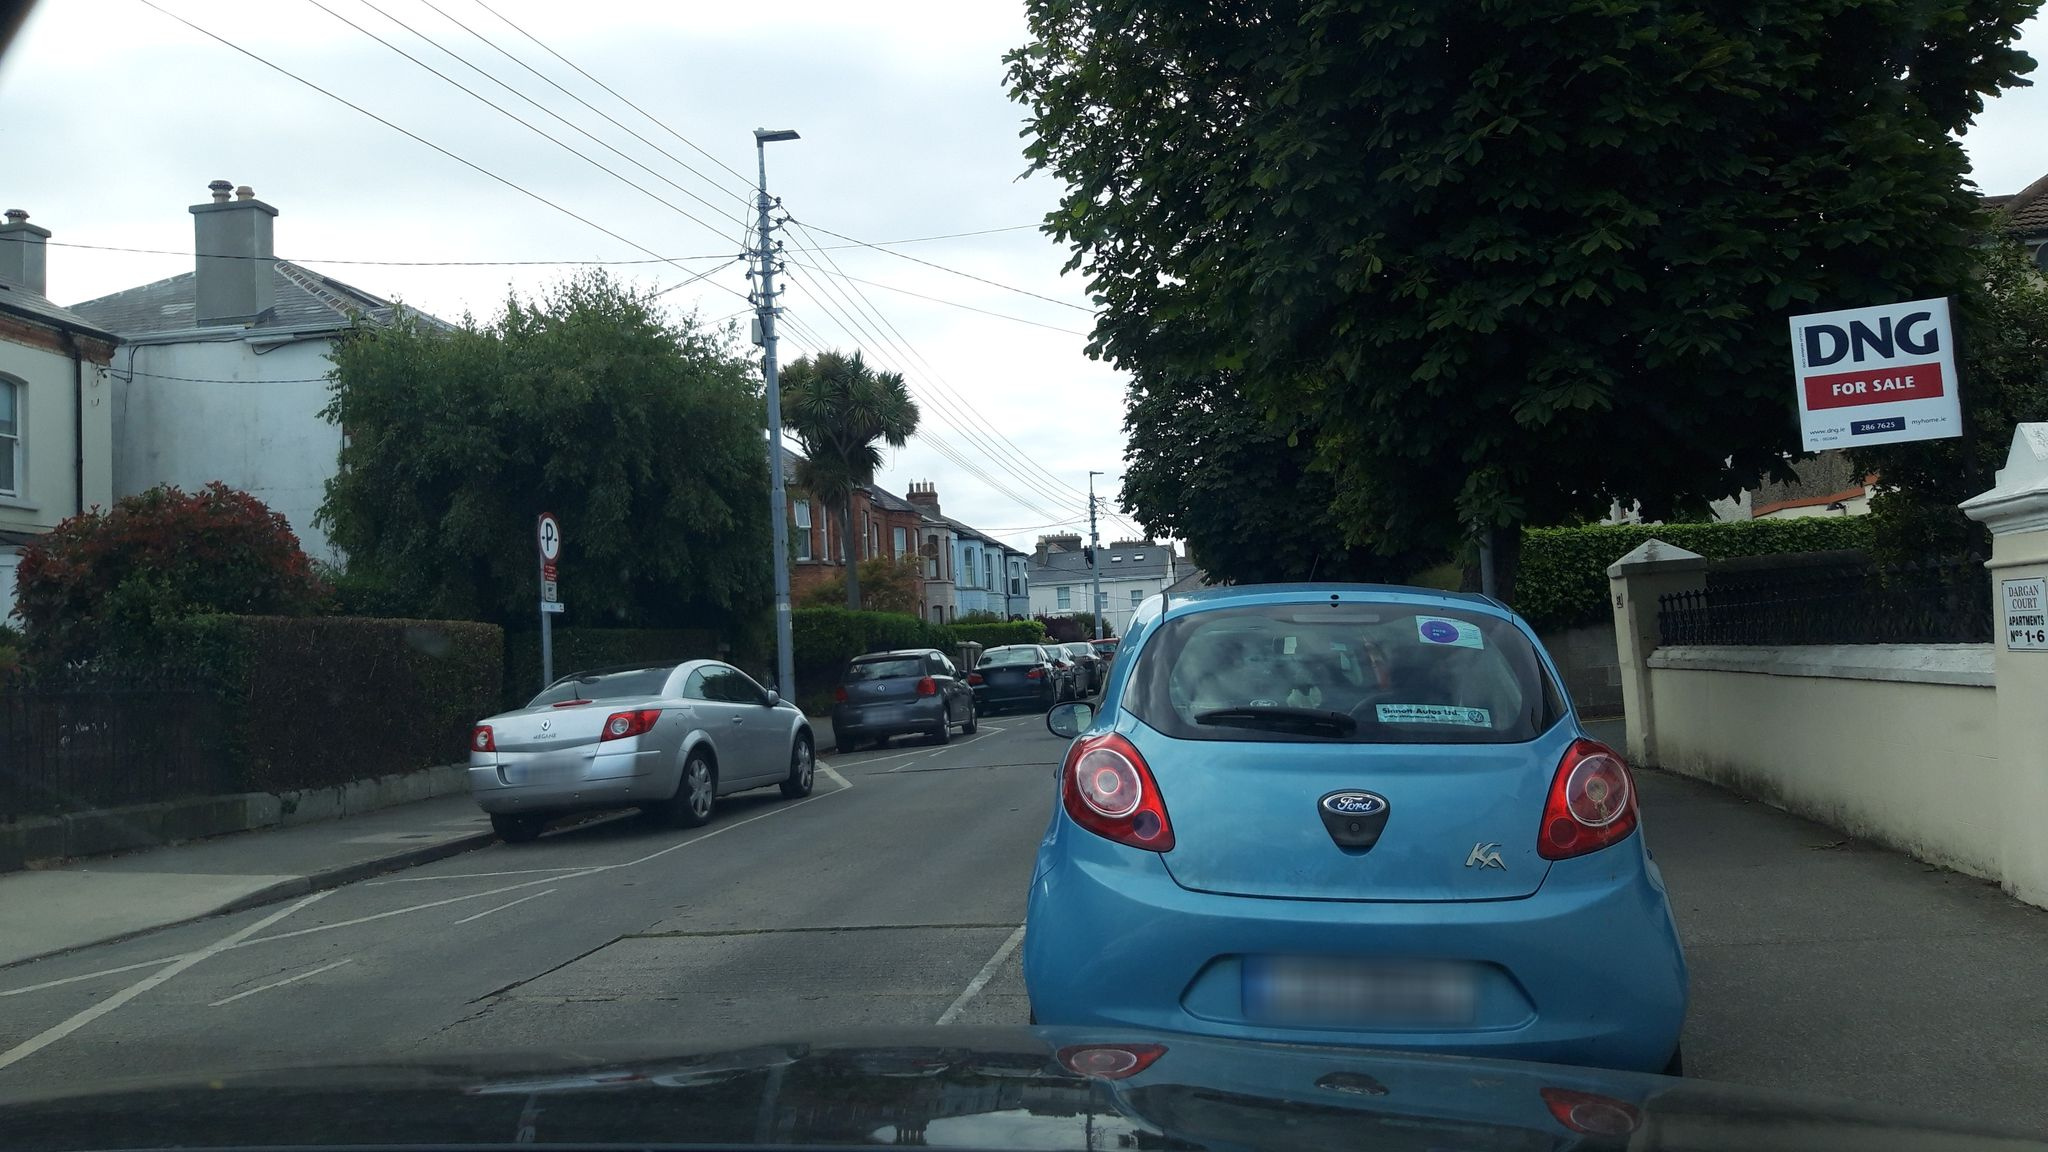property sign: (1775, 281, 1966, 463)
